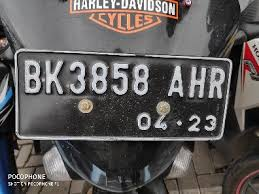plat nomor: (13, 49, 224, 141)
